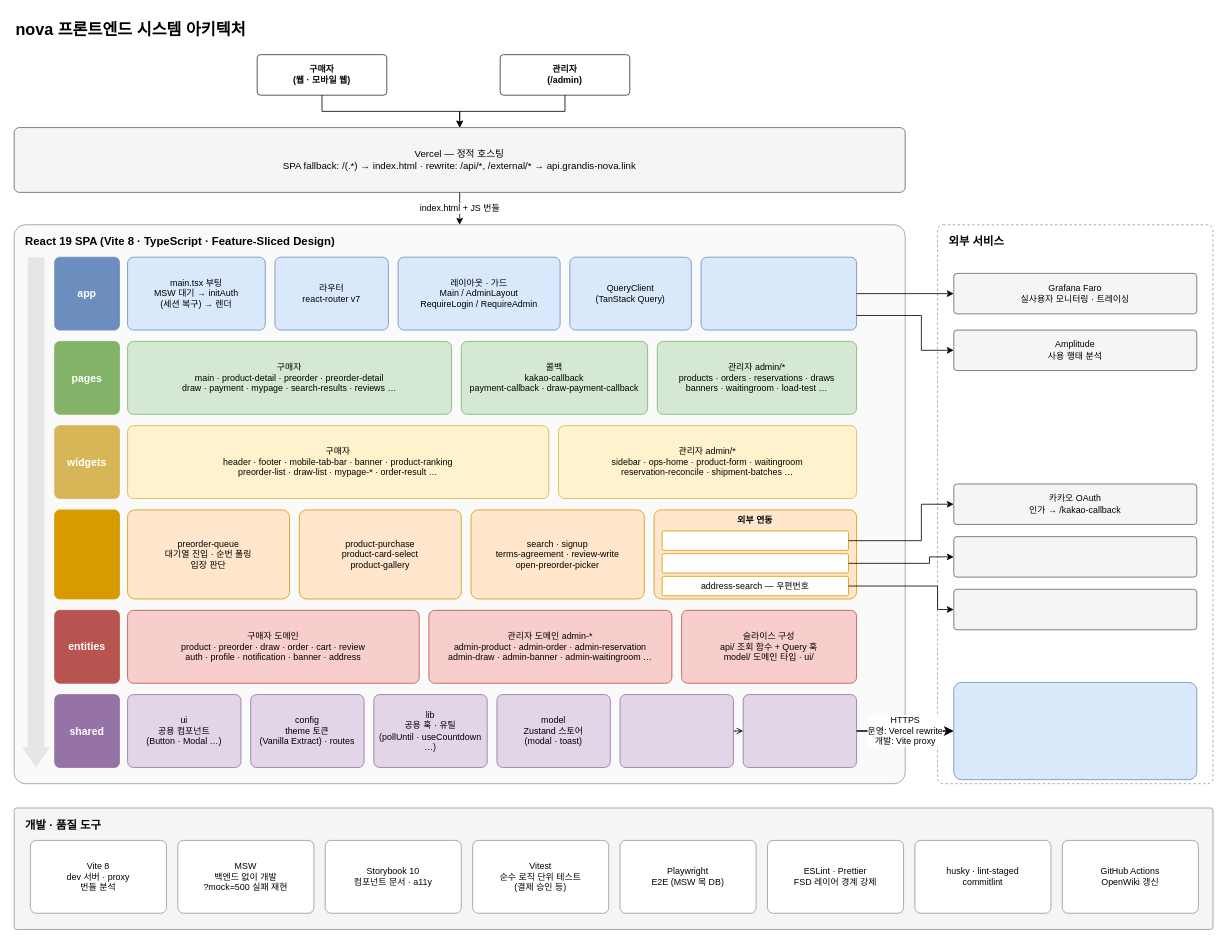
This 1227x944 diagram has some shape labels left out. Here are the shapes that lost their labels. From the top down, the centre of each, then its label:
the point at 778,293: 모니터링 · 분석 SDK Faro (app/faro) Amplitude (shared/lib)
the point at 35,512: 의존 방향: 위 → 아래만 import (ESLint 강제)
the point at 86,554: features
the point at 754,540: login — 카카오 로그인
the point at 1075,556: 토스페이먼츠 SDK 결제창 → /payment-callback
the point at 754,563: payment — 토스 결제창
the point at 1075,609: 다음 우편번호 서비스
the point at 676,730: api/mock MSW 핸들러 · 목 DB (dev 기본 on)
the point at 799,730: api/client.ts axios 래퍼 · 에러 정규화 401 재발급 · queryPolicy
the point at 1075,731: Nova 백엔드 API api.grandis-nova.link /api/* · /external/* (외부 예약 Mock)
